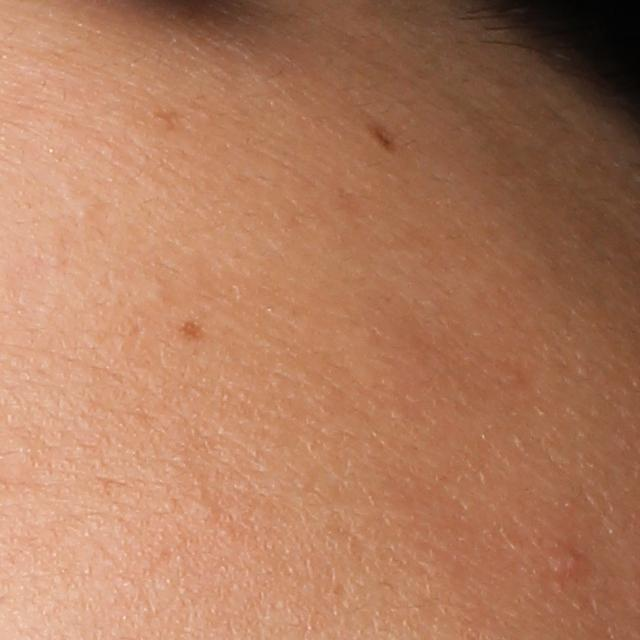papule: (557, 546, 592, 582)
